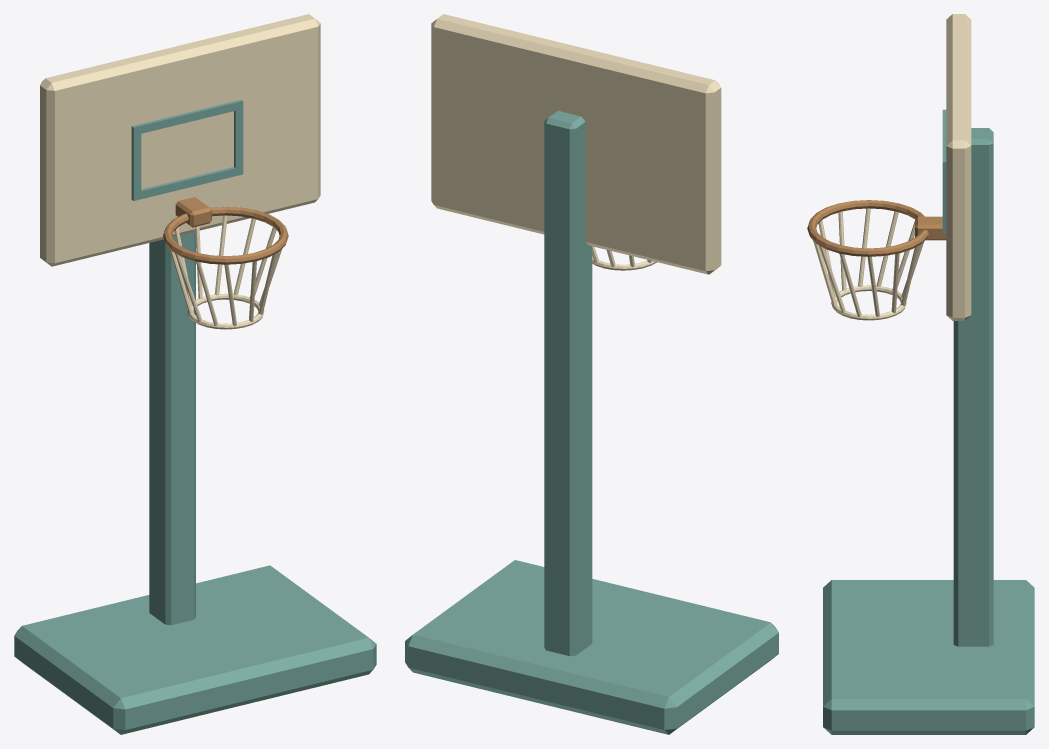
The picture shows the model from 3 angles, left to right: view 1: azimuth 30°, elevation 25°; view 2: azimuth 150°, elevation 25°; view 3: azimuth 270°, elevation 25°; orthographic projection. The views are drawn at different scales.
Visible parts, largest first — view 1: sports-basketball-stand-01; view 2: sports-basketball-stand-01; view 3: sports-basketball-stand-01.
Boxes of the visible parts, x1,y1,x2,y2 form: sports-basketball-stand-01: (14, 14, 376, 734); sports-basketball-stand-01: (405, 14, 778, 734); sports-basketball-stand-01: (807, 14, 1034, 734).
Size of the model in its own units: 1.25 by 2.65 by 0.913.
